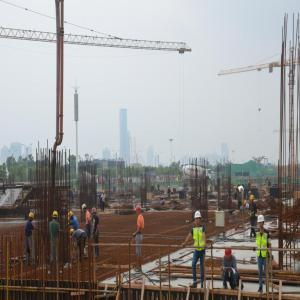red: (225, 248, 233, 262), (92, 207, 98, 218), (136, 206, 142, 216)
white: (258, 215, 266, 231), (195, 212, 202, 225)
yellow: (29, 213, 35, 222), (53, 212, 59, 221), (70, 229, 76, 238), (69, 212, 74, 222), (83, 205, 88, 213), (251, 195, 255, 203), (249, 192, 252, 197), (245, 201, 248, 206), (103, 191, 106, 195), (239, 191, 242, 194), (164, 200, 166, 203), (169, 186, 171, 189), (101, 190, 102, 194), (235, 187, 236, 190), (190, 197, 191, 200)
